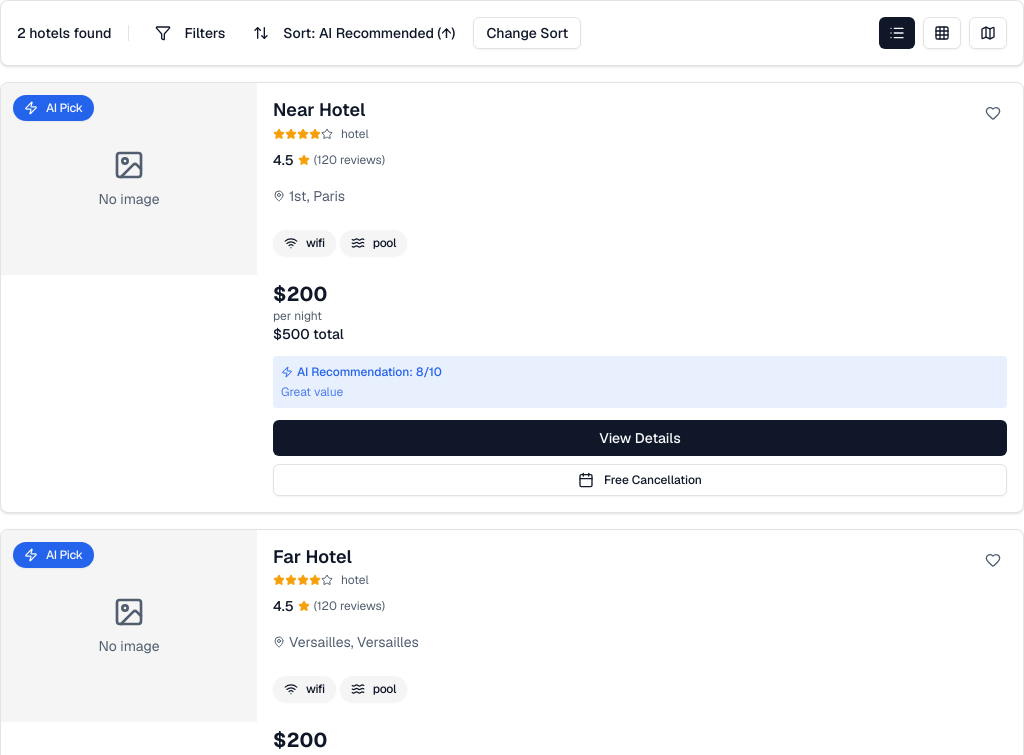
Test: HotelResults › distance sorting › excludes distance from sort cycle when searchCenter is not provided
The image size is (1024, 755).
Click the button "Change Sort" at x=527, y=33, box [473,17,581,49]
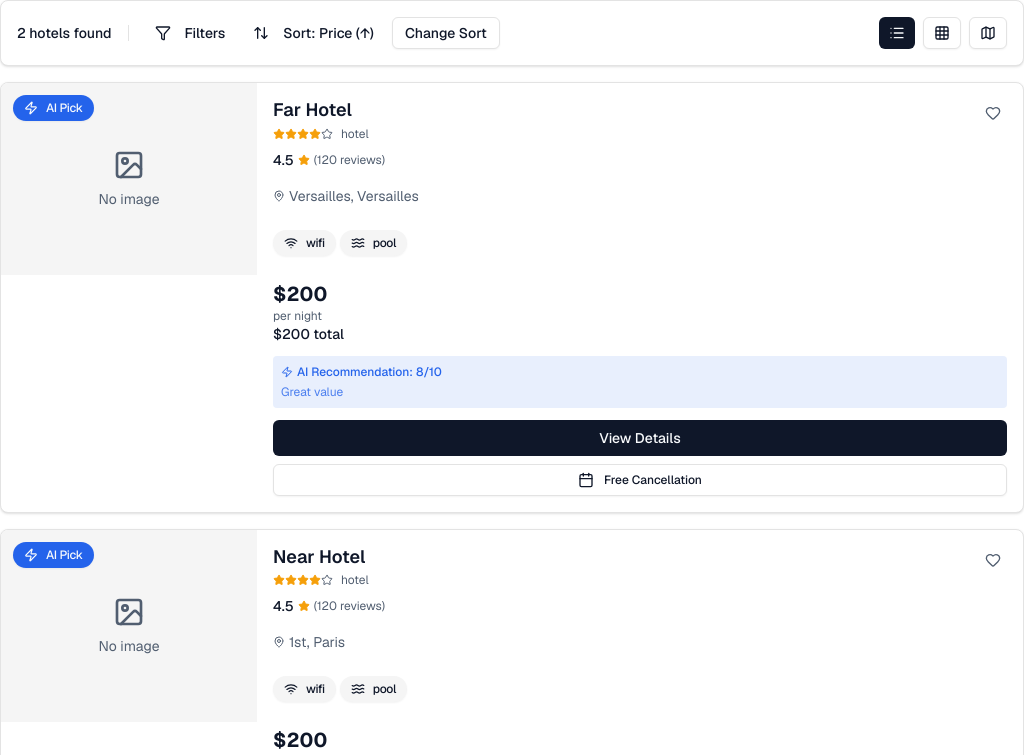
Click the button "Change Sort" at x=446, y=33, box [392,17,500,49]
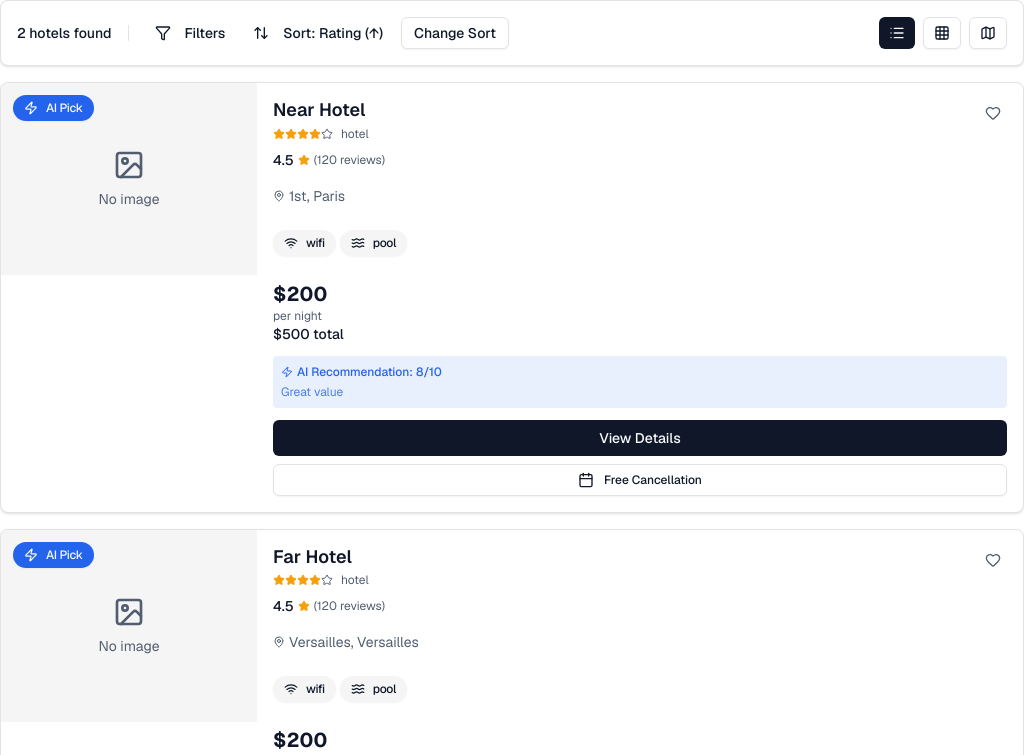
Click the button "Change Sort" at x=455, y=33, box [401,17,509,49]
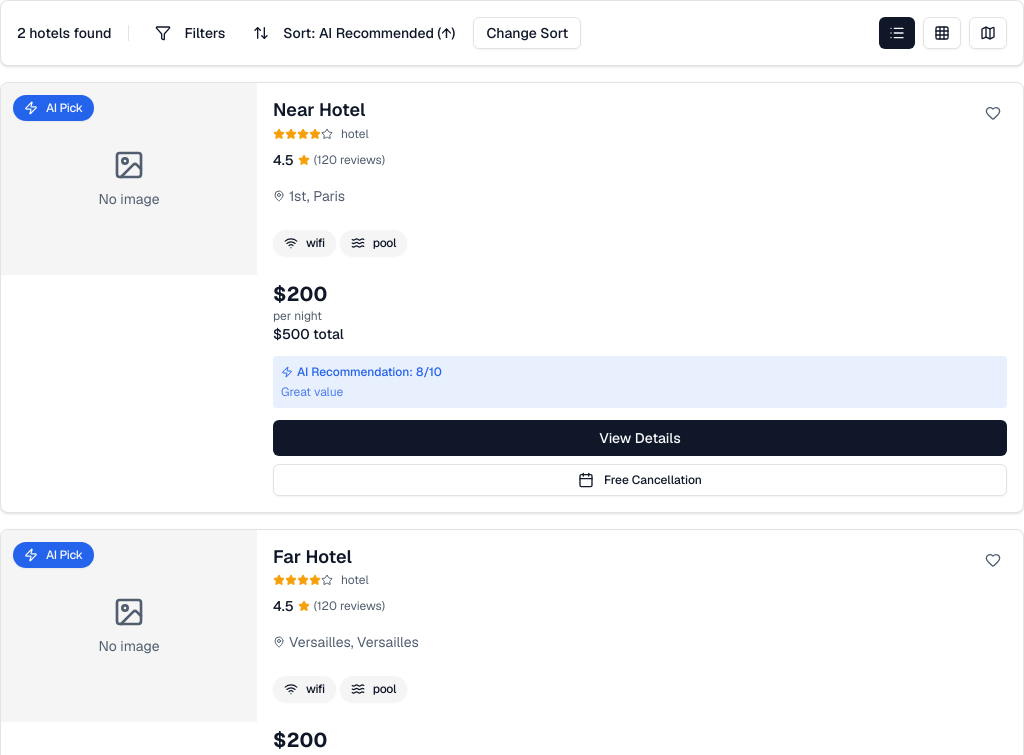
Check: the button "Sort: AI Recommended (↑)" is shown, box [243,17,465,49]
